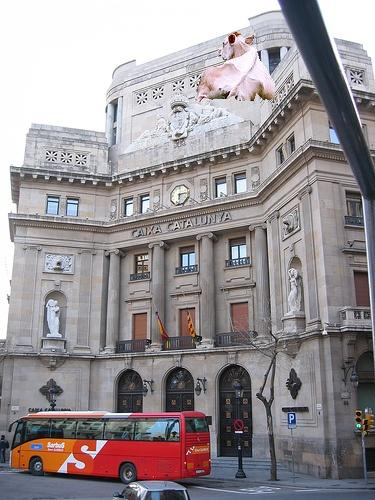tampered: (187, 32, 275, 102)
